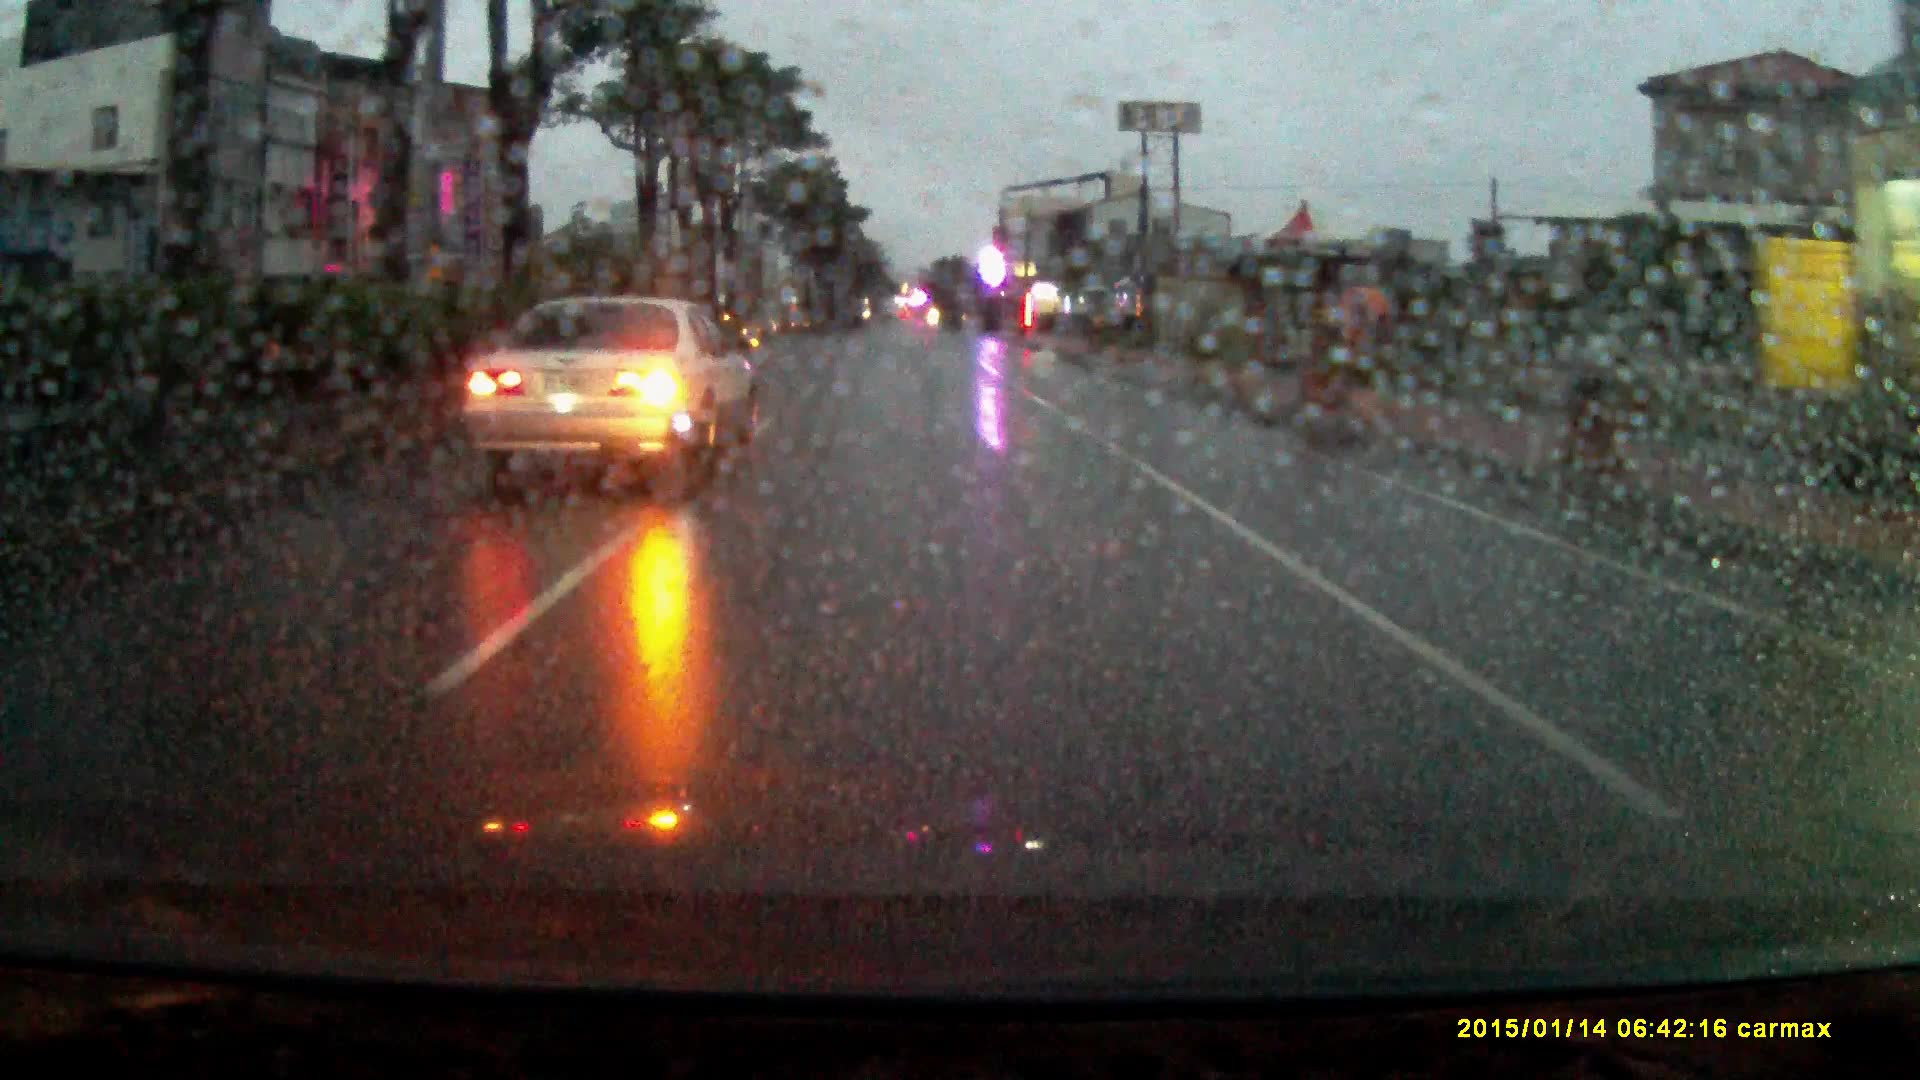pedestrian: (1323, 277, 1389, 406)
vehicle: (466, 288, 769, 489)
